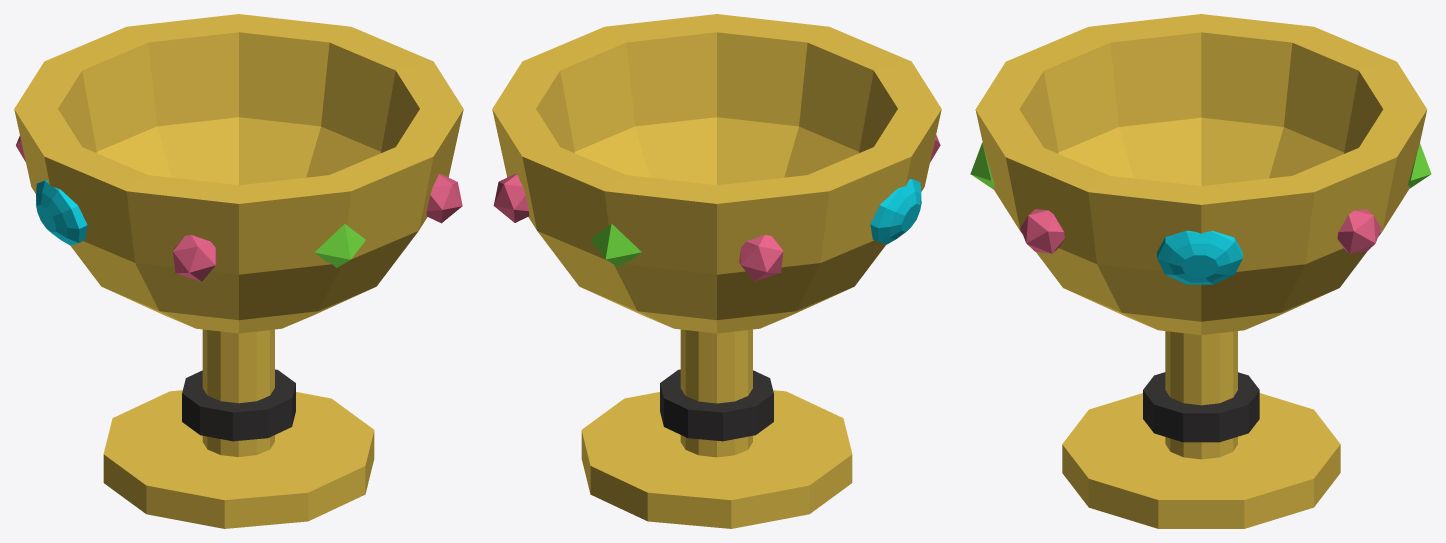
File: SM_SM_Hoiiy_Cup.fbx
3 views of the same model, side by side, from view 1: azimuth 30°, elevation 25°; view 2: azimuth 150°, elevation 25°; view 3: azimuth 270°, elevation 25° (orthographic).
Visible parts, largest first — view 1: SM_Hoiiy_Cup; view 2: SM_Hoiiy_Cup; view 3: SM_Hoiiy_Cup.
Boxes of the visible parts, x1,y1,x2,y2 form: SM_Hoiiy_Cup: [14, 14, 463, 528]; SM_Hoiiy_Cup: [492, 14, 941, 528]; SM_Hoiiy_Cup: [970, 14, 1431, 528].
Bounding box in the file's own units: 42.89 × 37.89 × 43.54.
